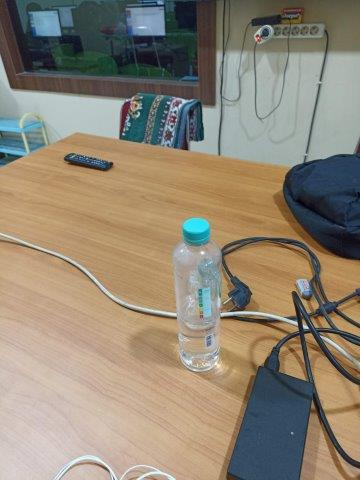botolplastik: (173, 217, 223, 372)
